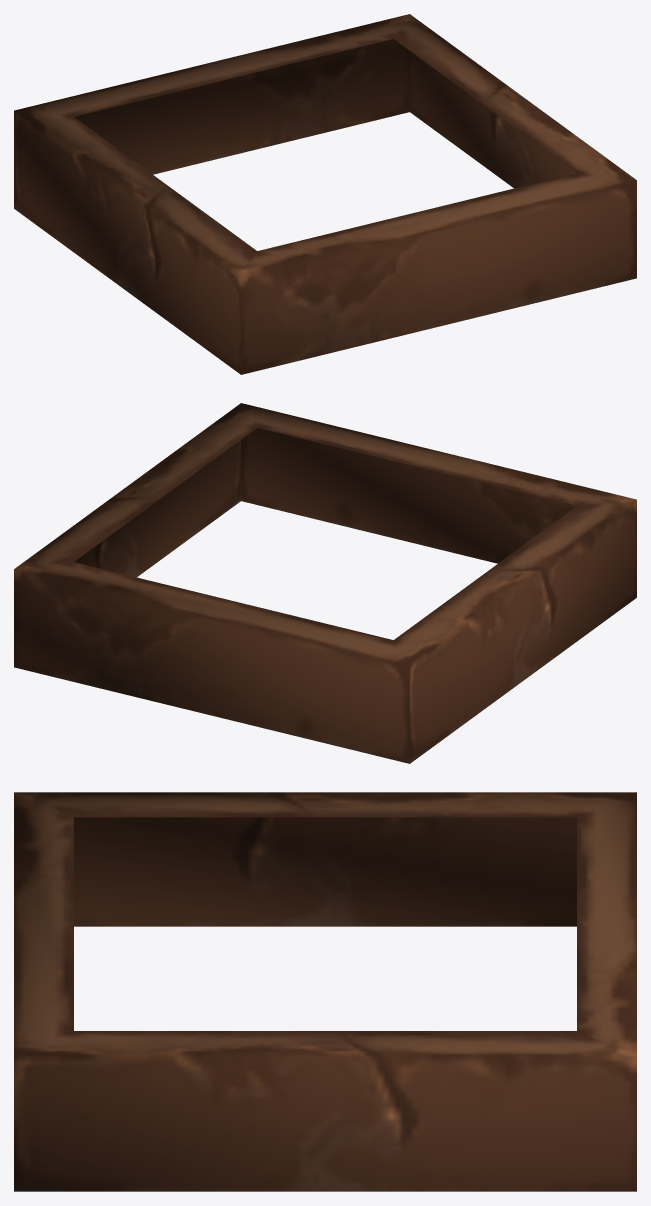
The model's file is sn_jiguan_zhuzi_003.FBX.
The picture shows the model from 3 angles, top to bottom: view 1: azimuth 30°, elevation 25°; view 2: azimuth 150°, elevation 25°; view 3: azimuth 270°, elevation 25°; orthographic projection. The views are drawn at different scales.
Visible parts, largest first — view 1: sn_jiguan_zhuzi_003; view 2: sn_jiguan_zhuzi_003; view 3: sn_jiguan_zhuzi_003.
Part boxes in pixels (x1,y1,x2,y2): sn_jiguan_zhuzi_003: [14, 14, 636, 374]; sn_jiguan_zhuzi_003: [14, 403, 636, 763]; sn_jiguan_zhuzi_003: [14, 792, 636, 1191].
Bounding box in the file's own units: 202 × 47.93 × 200.
